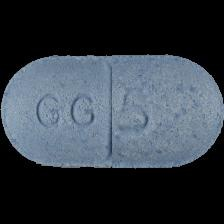68788-9235: (0, 0, 224, 224)
